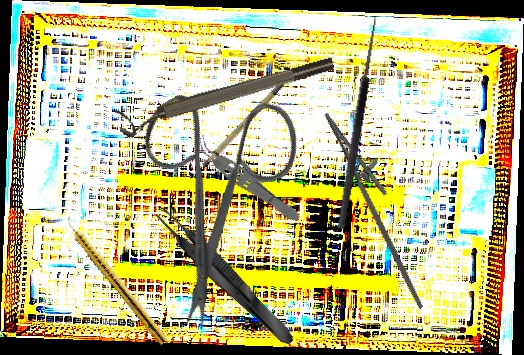Fixation Ring: (114, 52, 339, 141)
Handpiece: (60, 214, 172, 346)
Hook Surgical: (326, 14, 380, 230)
Iris Scissors: (82, 51, 361, 337)
Needle Holder: (302, 103, 459, 310)
Scalpel Handle: (191, 72, 306, 170)
Tissue Forceps: (150, 202, 300, 352), (190, 133, 305, 228)
